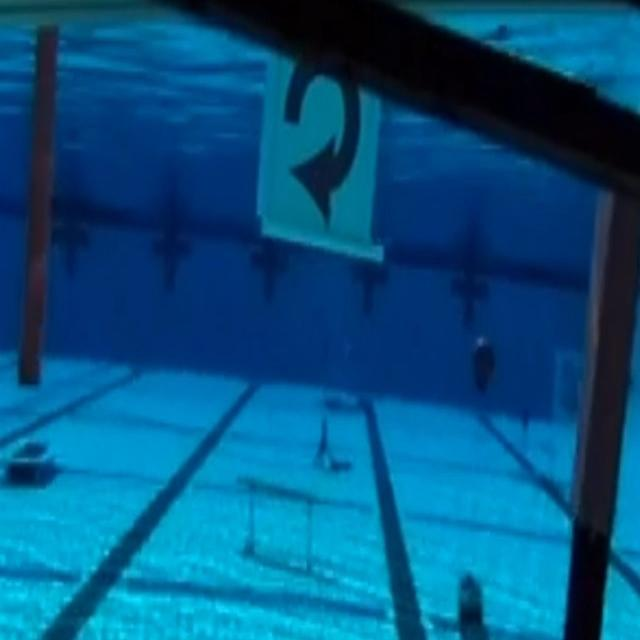Gate: (27, 21, 639, 619)
